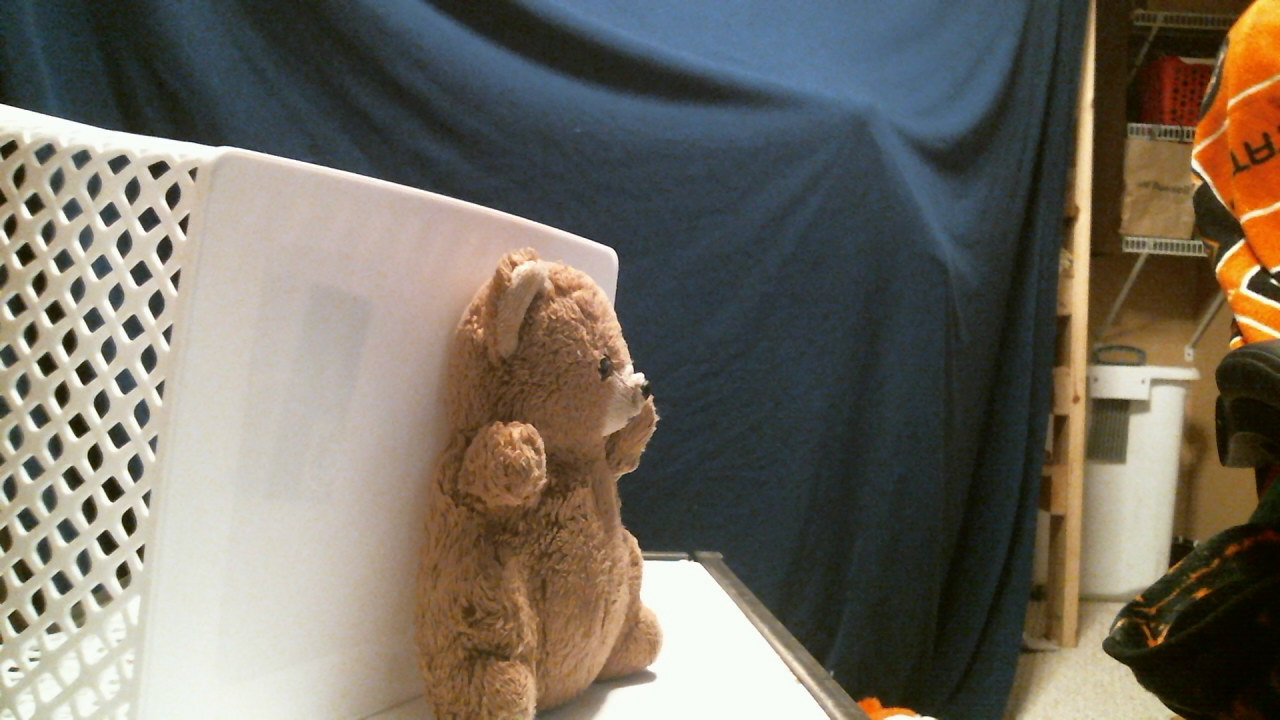Little_Mister_Bear: (586, 335, 653, 444)
